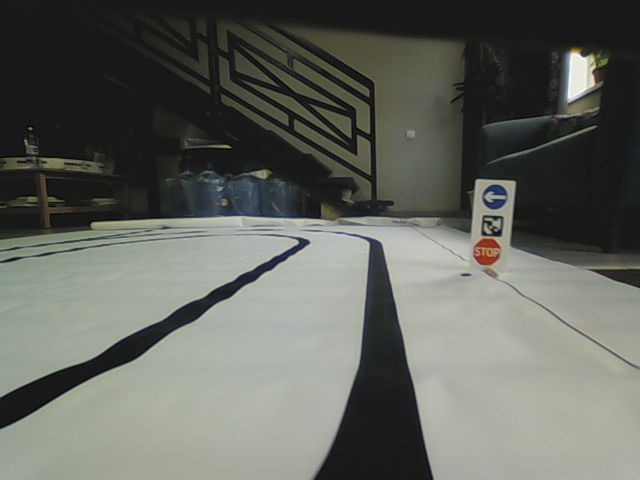Stop: (472, 238, 502, 266)
